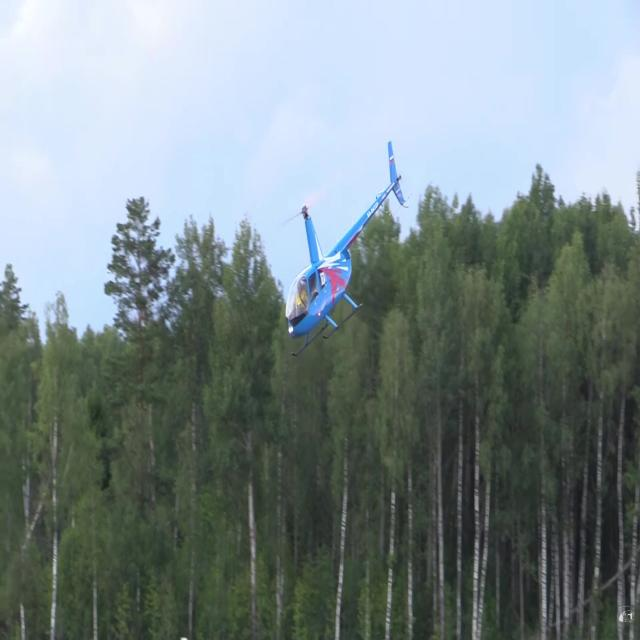CIV_HELO: (284, 139, 408, 359)
